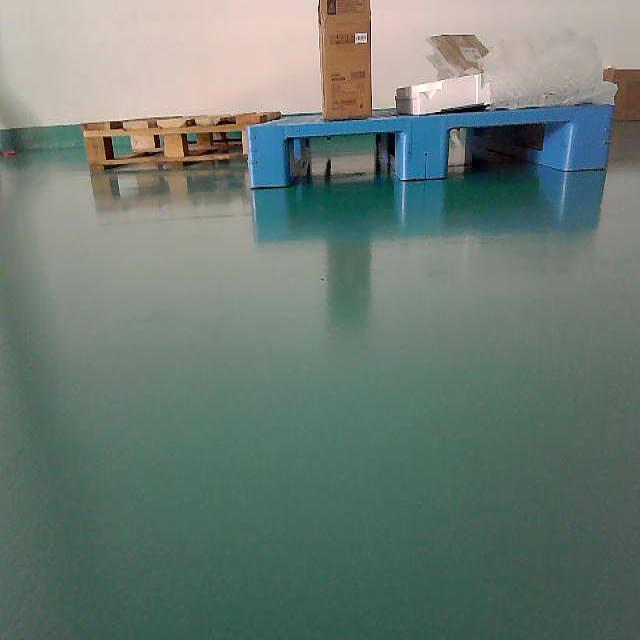euro: (81, 116, 272, 171)
